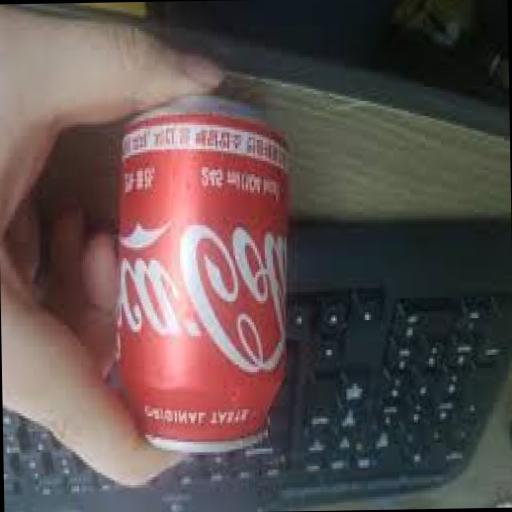Coca: (98, 88, 304, 458)
